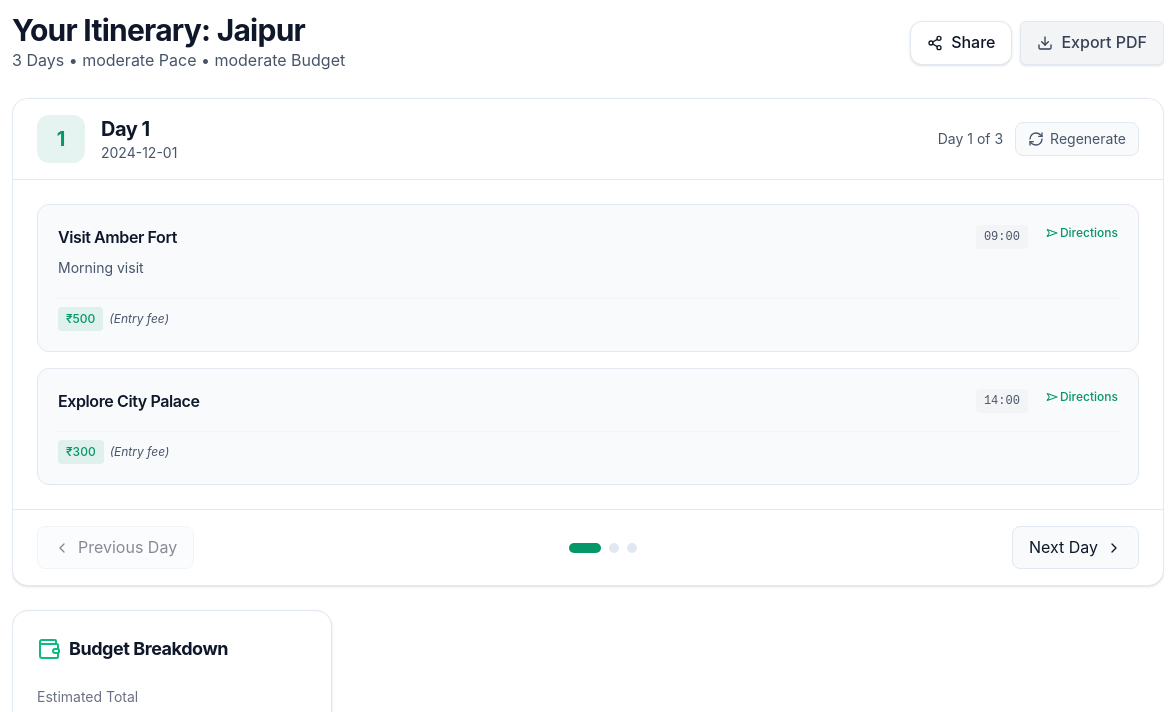
Test case: ItineraryView › navigates to next day when clicking Next Day button
Click the button "Next Day". click: click(1075, 548)
box: [1012, 526, 1139, 569]
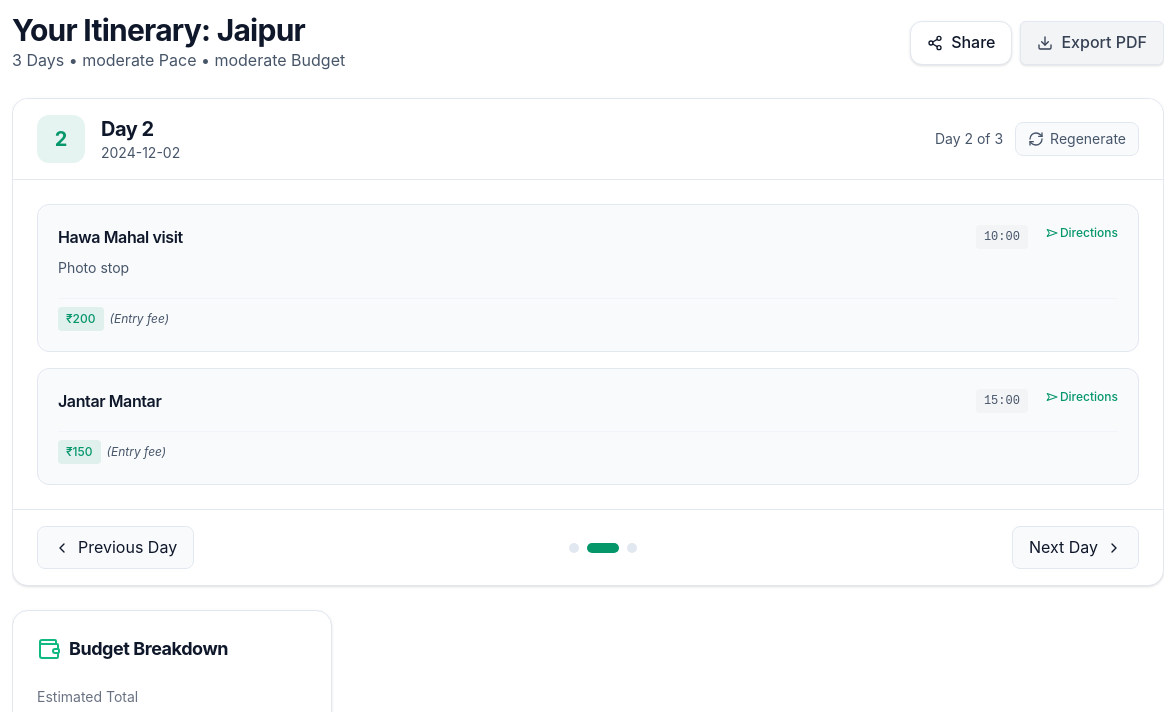
Check: the heading "Day 2" is shown, box [101, 117, 154, 141]
Check: the heading "Hawa Mahal visit" is shown, box [58, 227, 183, 247]
